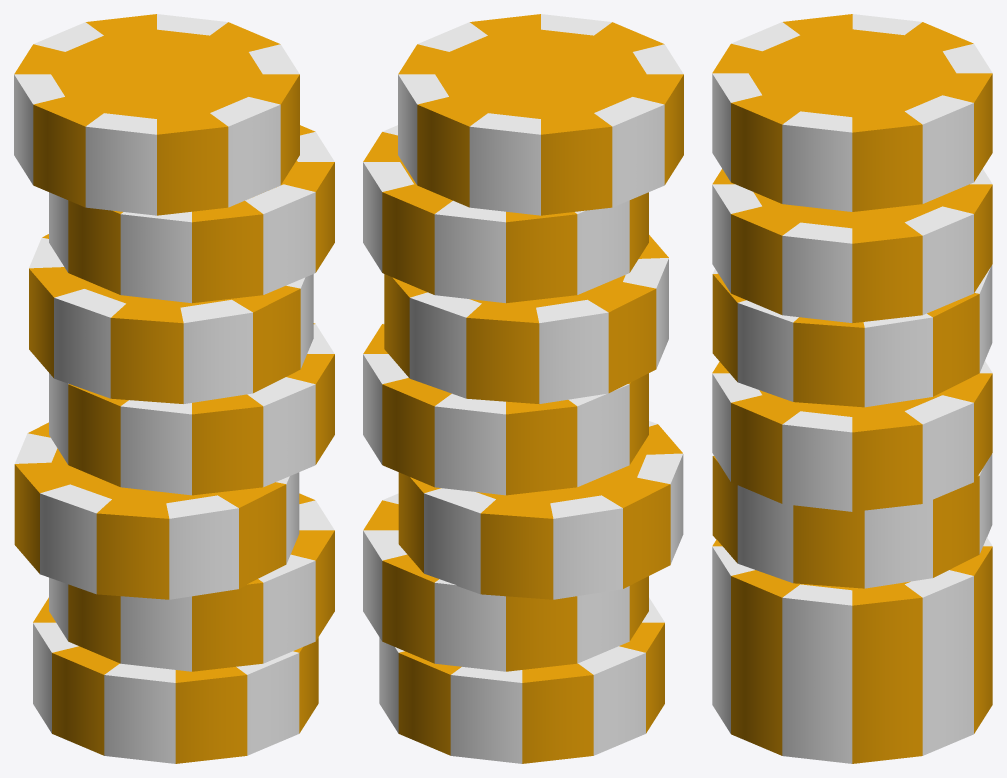
File: Poker Chip Yellow Small Stack.FBX
3 renders of one model, left to right at view 1: azimuth 30°, elevation 25°; view 2: azimuth 150°, elevation 25°; view 3: azimuth 270°, elevation 25°, orthographic.
Visible parts, largest first — view 1: Poker Chip Yellow016, Poker Chip Yellow012, Poker Chip Yellow014, Poker Chip Yellow Small Stack, Poker Chip Yellow013, Poker Chip Yellow015, Poker Chip Yellow011; view 2: Poker Chip Yellow016, Poker Chip Yellow012, Poker Chip Yellow014, Poker Chip Yellow Small Stack, Poker Chip Yellow013, Poker Chip Yellow015, Poker Chip Yellow011; view 3: Poker Chip Yellow016, Poker Chip Yellow015, Poker Chip Yellow013, Poker Chip Yellow011, Poker Chip Yellow014, Poker Chip Yellow Small Stack, Poker Chip Yellow012.
Part boxes in pixels (x1,y1,x2,y2): Poker Chip Yellow016: (14, 14, 299, 215); Poker Chip Yellow012: (14, 422, 299, 599); Poker Chip Yellow014: (29, 234, 313, 403); Poker Chip Yellow Small Stack: (33, 597, 318, 763); Poker Chip Yellow013: (49, 323, 334, 495); Poker Chip Yellow015: (49, 125, 334, 303); Poker Chip Yellow011: (49, 493, 334, 671); Poker Chip Yellow016: (398, 14, 683, 215); Poker Chip Yellow012: (398, 421, 683, 599); Poker Chip Yellow014: (384, 235, 668, 403); Poker Chip Yellow Small Stack: (379, 597, 664, 763); Poker Chip Yellow013: (363, 323, 648, 495); Poker Chip Yellow015: (363, 125, 648, 303); Poker Chip Yellow011: (363, 493, 648, 671); Poker Chip Yellow016: (712, 14, 992, 211); Poker Chip Yellow015: (712, 169, 992, 323); Poker Chip Yellow013: (712, 361, 992, 511); Poker Chip Yellow011: (712, 537, 992, 684); Poker Chip Yellow014: (712, 265, 992, 407); Poker Chip Yellow Small Stack: (712, 626, 992, 763); Poker Chip Yellow012: (712, 454, 992, 588).
Bounding box in the file's own units: 0.0183 × 0.0392 × 0.016.
